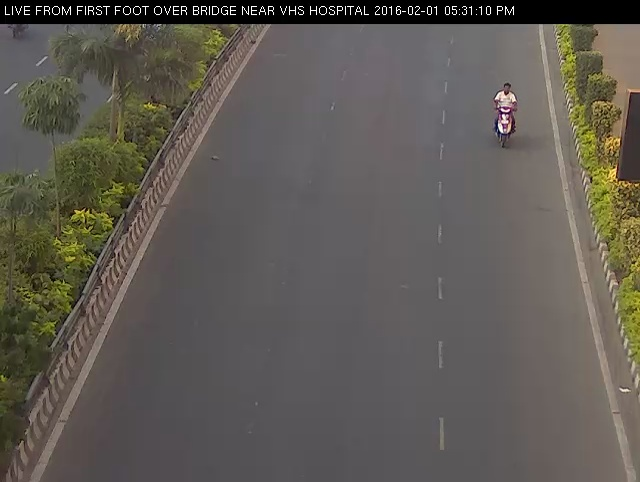Person: (483, 69, 524, 153)
